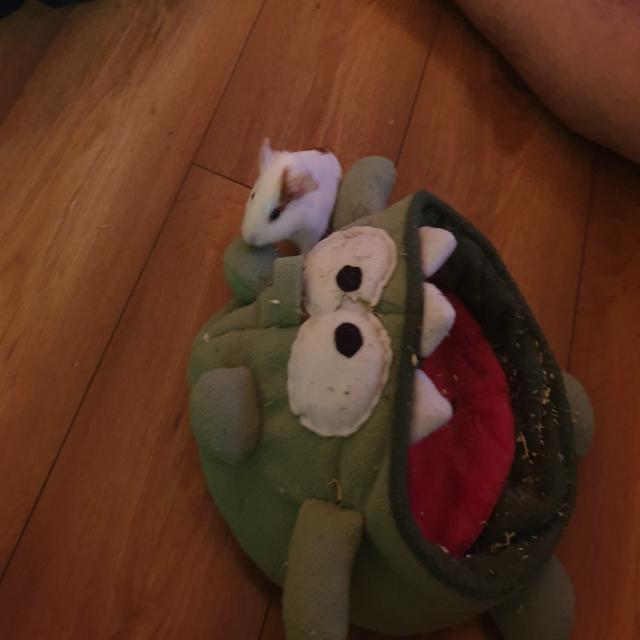guinea pig: (241, 136, 345, 258)
